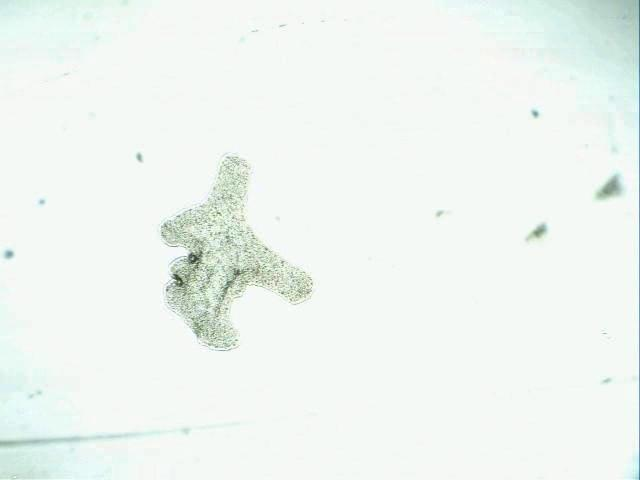Placozoan: (160, 152, 319, 352)
